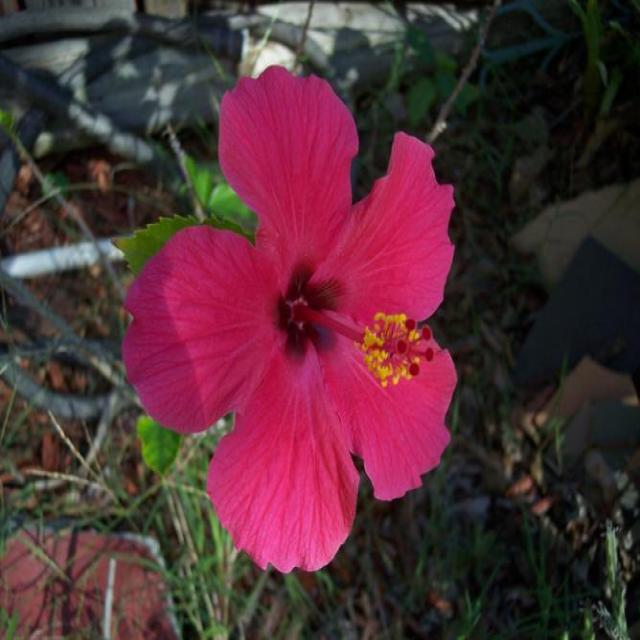hibiscus: (106, 34, 600, 640)
